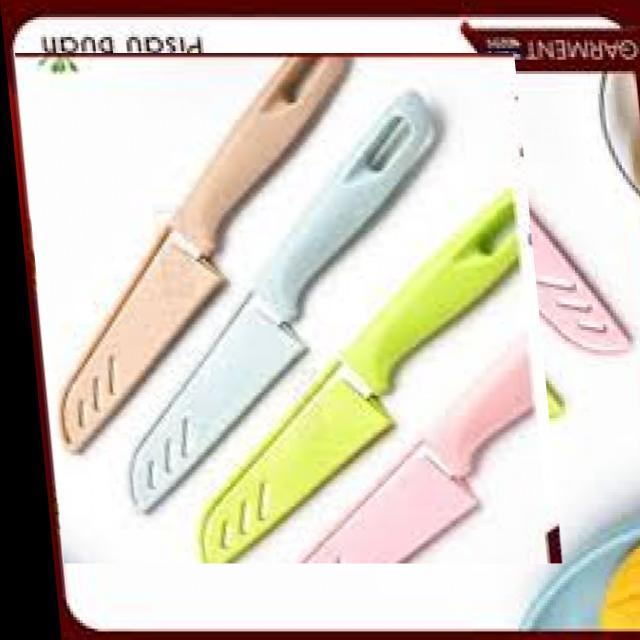knife: (12, 56, 554, 561)
